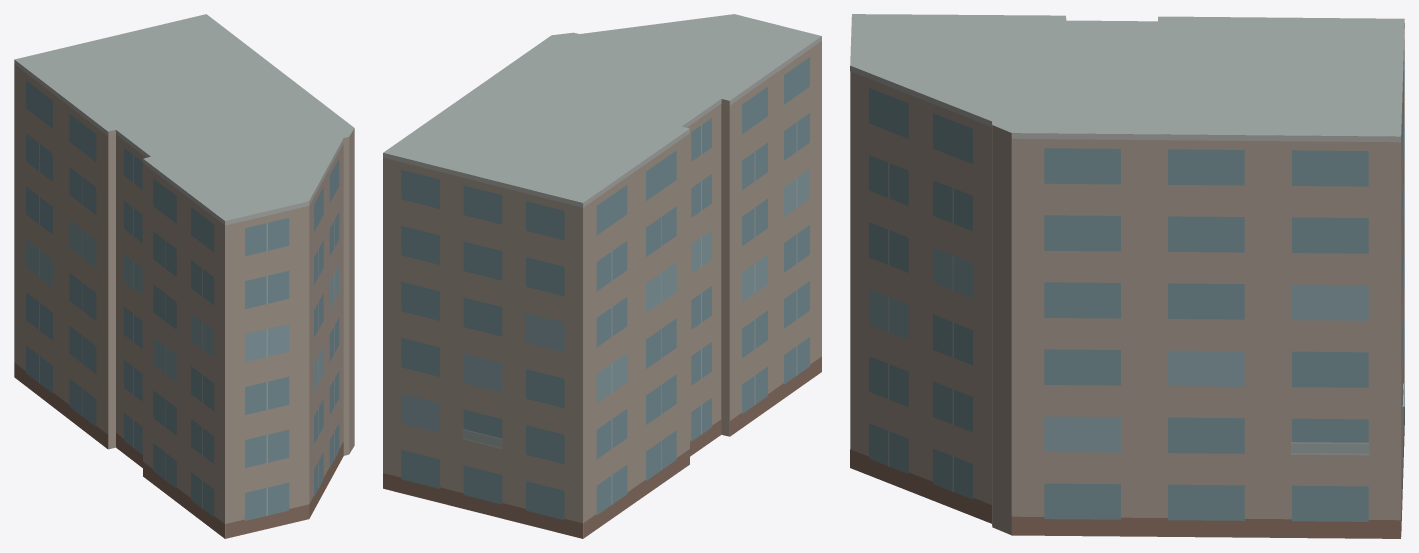
The model's file is survey-upis-32986658.glb.
3 views of the same model, side by side, from view 1: azimuth 30°, elevation 25°; view 2: azimuth 150°, elevation 25°; view 3: azimuth 270°, elevation 25° (orthographic). The views are drawn at different scales.
Parts seen in each view (by area): view 1: survey-upis-32986658.tmp; view 2: survey-upis-32986658.tmp; view 3: survey-upis-32986658.tmp.
Boxes of the visible parts, left/top/right/bottom form: survey-upis-32986658.tmp: left=14, top=14, right=354, bottom=538; survey-upis-32986658.tmp: left=383, top=14, right=821, bottom=538; survey-upis-32986658.tmp: left=850, top=14, right=1404, bottom=538.
Size of the model in its own units: 11.25 by 17.2 by 21.5.
